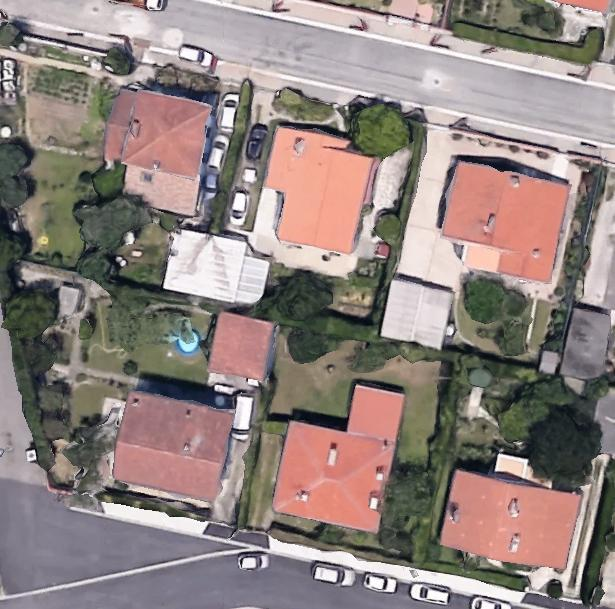maison: (269, 369, 409, 536), (433, 159, 570, 285), (254, 124, 381, 255), (94, 85, 211, 214), (438, 469, 581, 574), (108, 390, 235, 502), (208, 310, 275, 381)
